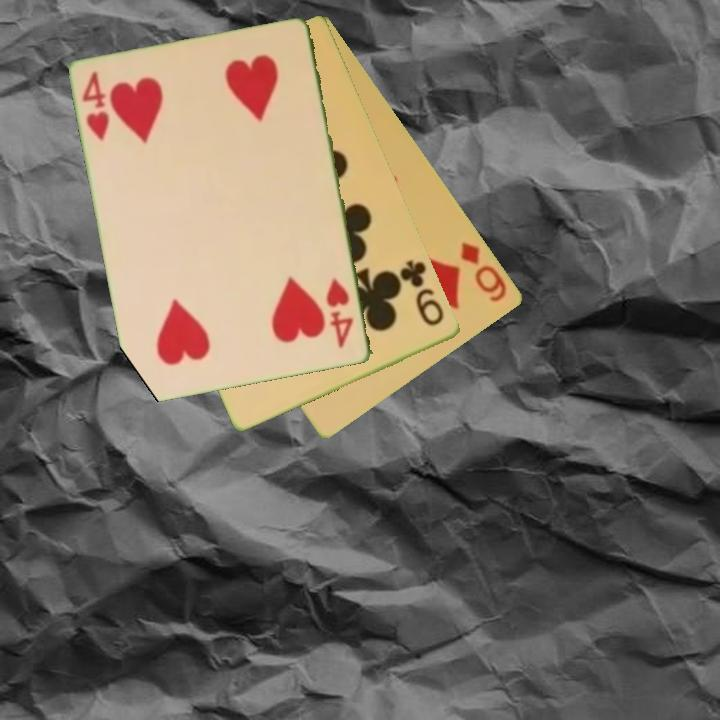4h: (323, 274, 357, 352), (79, 68, 113, 144)
6d: (457, 239, 511, 305)
9c: (396, 256, 448, 329)
